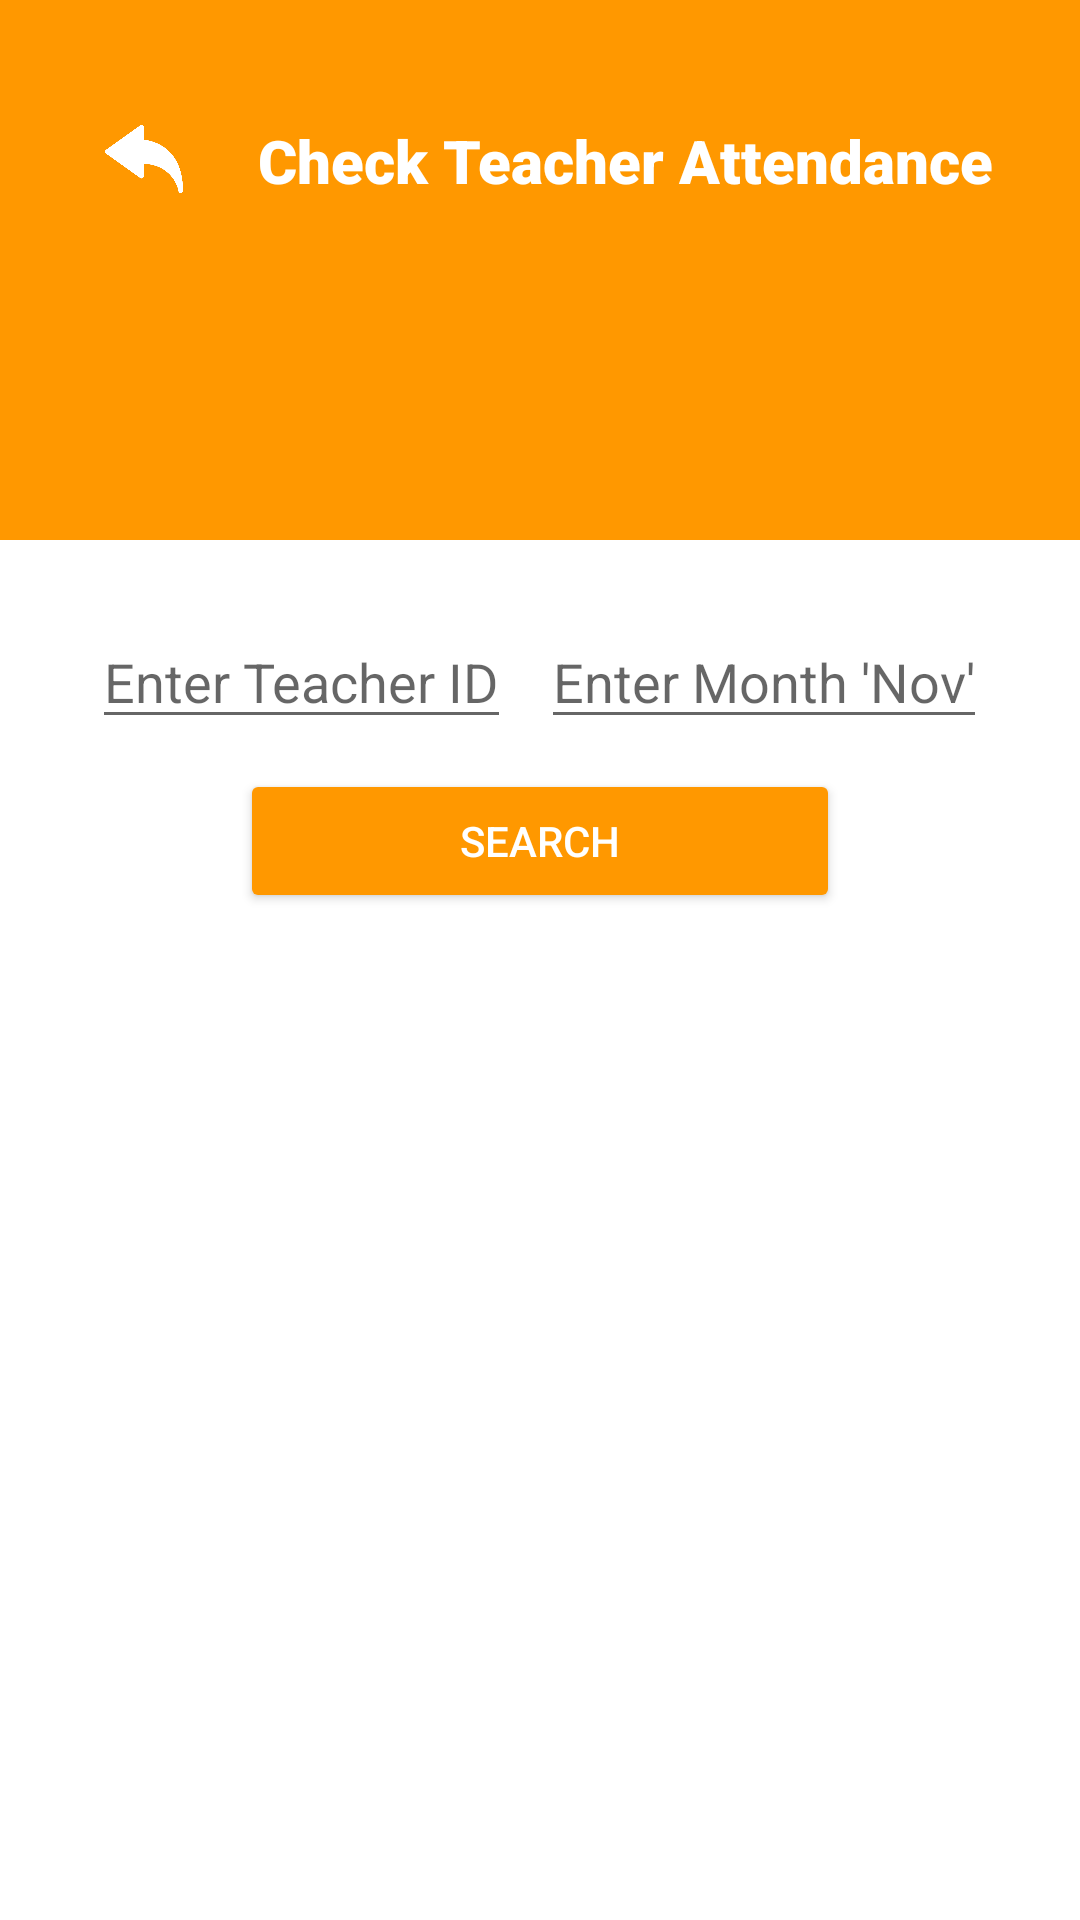

Icons on this 1080px×1920px Android screen, each with the point to tap as [x,y]:
back: [144,159]
